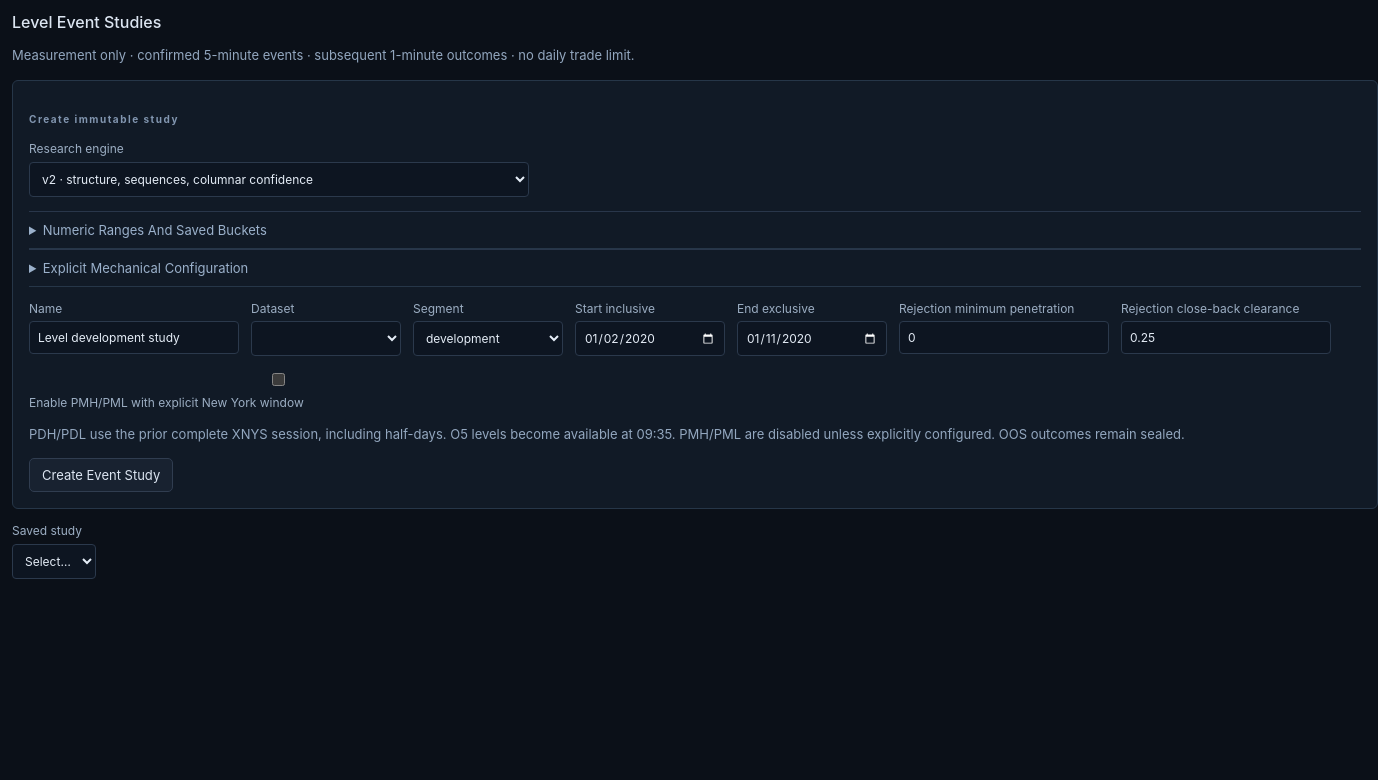
Test: segment selection uses exclusive planned boundaries
Select "validation" in the dropdown named "Research segment": (488, 339) [413, 321, 563, 356]
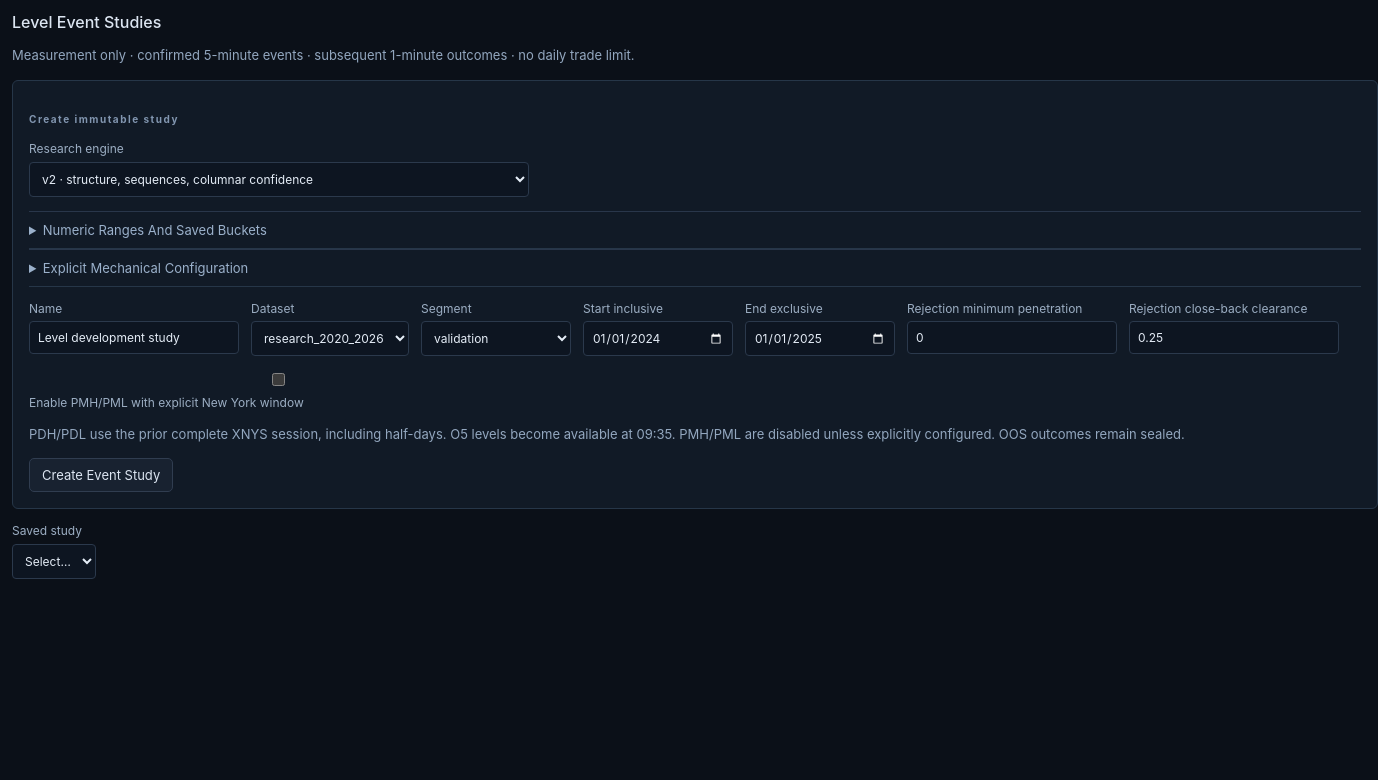
Result: the date field named "Study start" holds "2024-01-01" at [583, 321, 733, 356]
Result: the date field named "Study end" holds "2025-01-01" at [745, 321, 895, 356]
